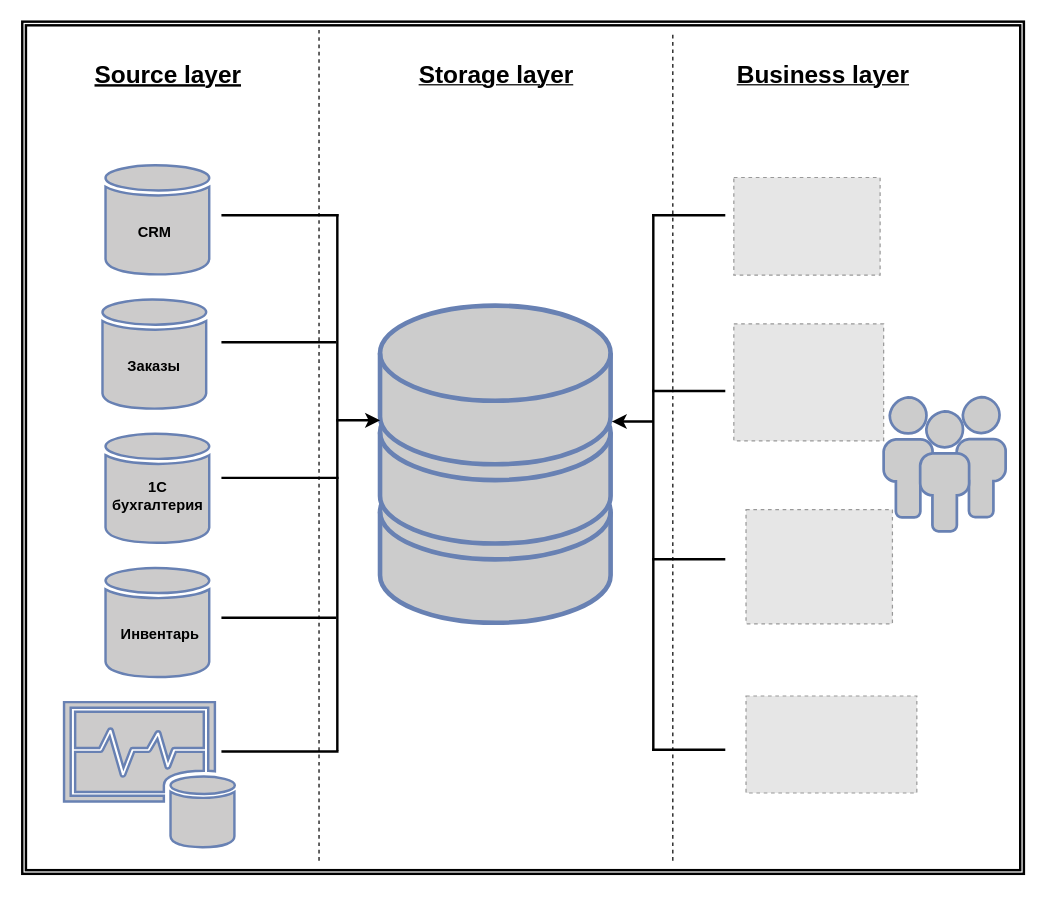
Image size: 1046x897. Some labels were removed from this diagram. Grey dashed boxes stand in for pictures. The shapes that lost their labels are listed below. From the top down, each one's box as (x1, y1, x2, y2) in pixels, then its label:
(378, 304, 611, 623): Datawarehouses
(62, 700, 235, 849): Google Analytics
